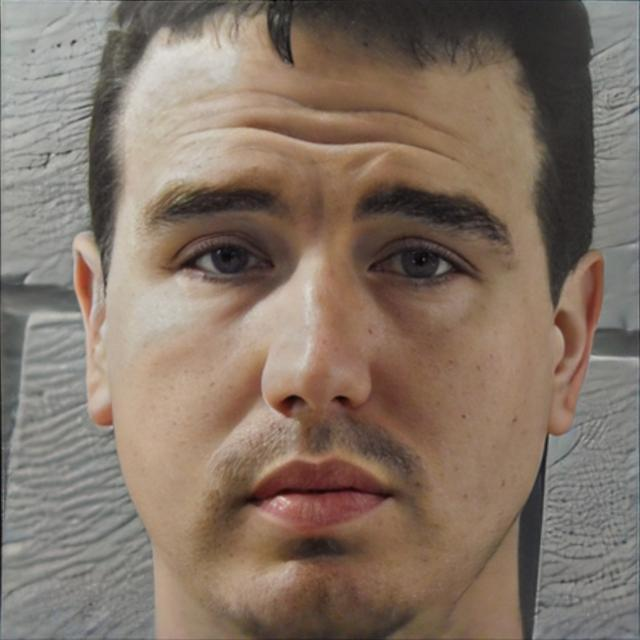sad: (102, 7, 550, 638)
